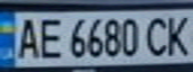0: (118, 15, 142, 57)
6: (63, 15, 87, 60), (84, 15, 106, 58)
8: (103, 16, 124, 58)
A: (12, 15, 42, 60)
C: (142, 14, 172, 57)
E: (33, 15, 66, 60)
K: (163, 12, 193, 57)
